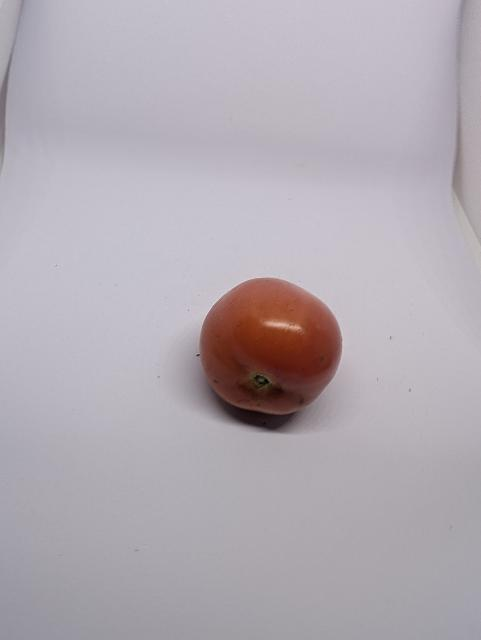red: (188, 271, 349, 432)
